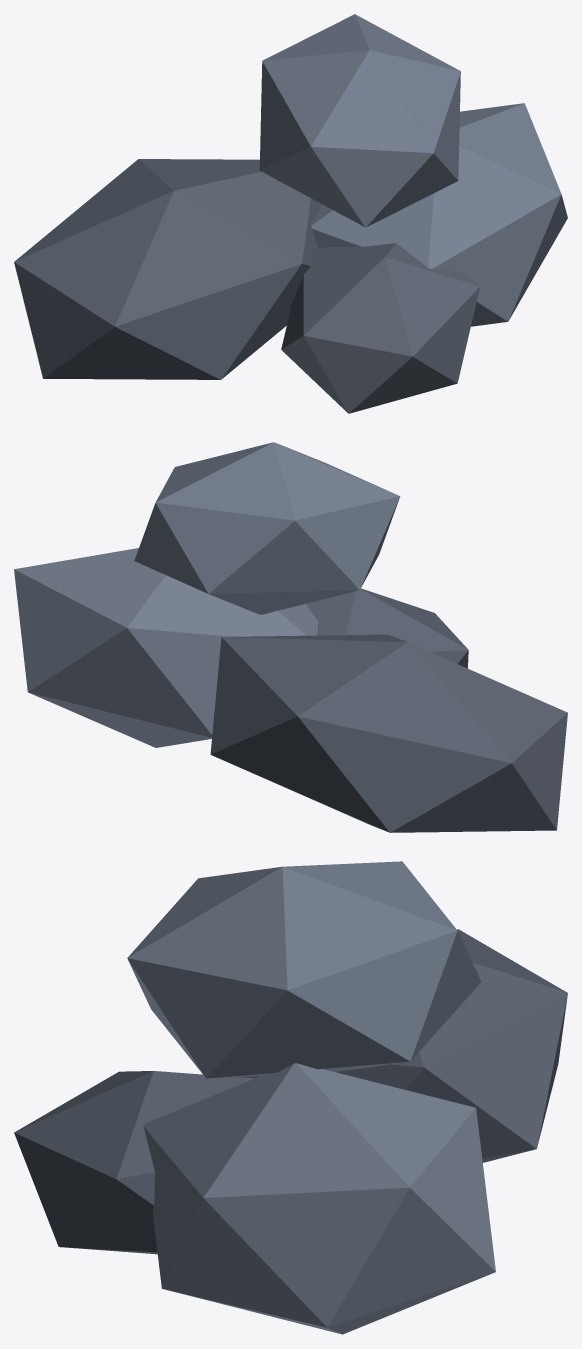
The model's file is EXTG_BranchCairn_East.glb.
3 views of the same model, one above another, from view 1: azimuth 30°, elevation 25°; view 2: azimuth 150°, elevation 25°; view 3: azimuth 270°, elevation 25° (orthographic). The views are drawn at different scales.
Visible parts, largest first — view 1: EXTG_BranchCairn_East; view 2: EXTG_BranchCairn_East; view 3: EXTG_BranchCairn_East.
Boxes of the visible parts, x1,y1,x2,y2 form: EXTG_BranchCairn_East: (14, 14, 567, 413); EXTG_BranchCairn_East: (14, 442, 567, 832); EXTG_BranchCairn_East: (14, 861, 567, 1334).
Bounding box in the file's own units: 0.9955 × 0.5532 × 0.6807.
